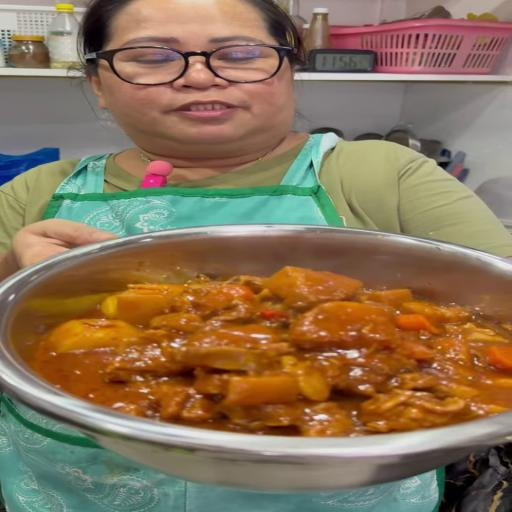pork caldereta: (46, 275, 511, 433)
